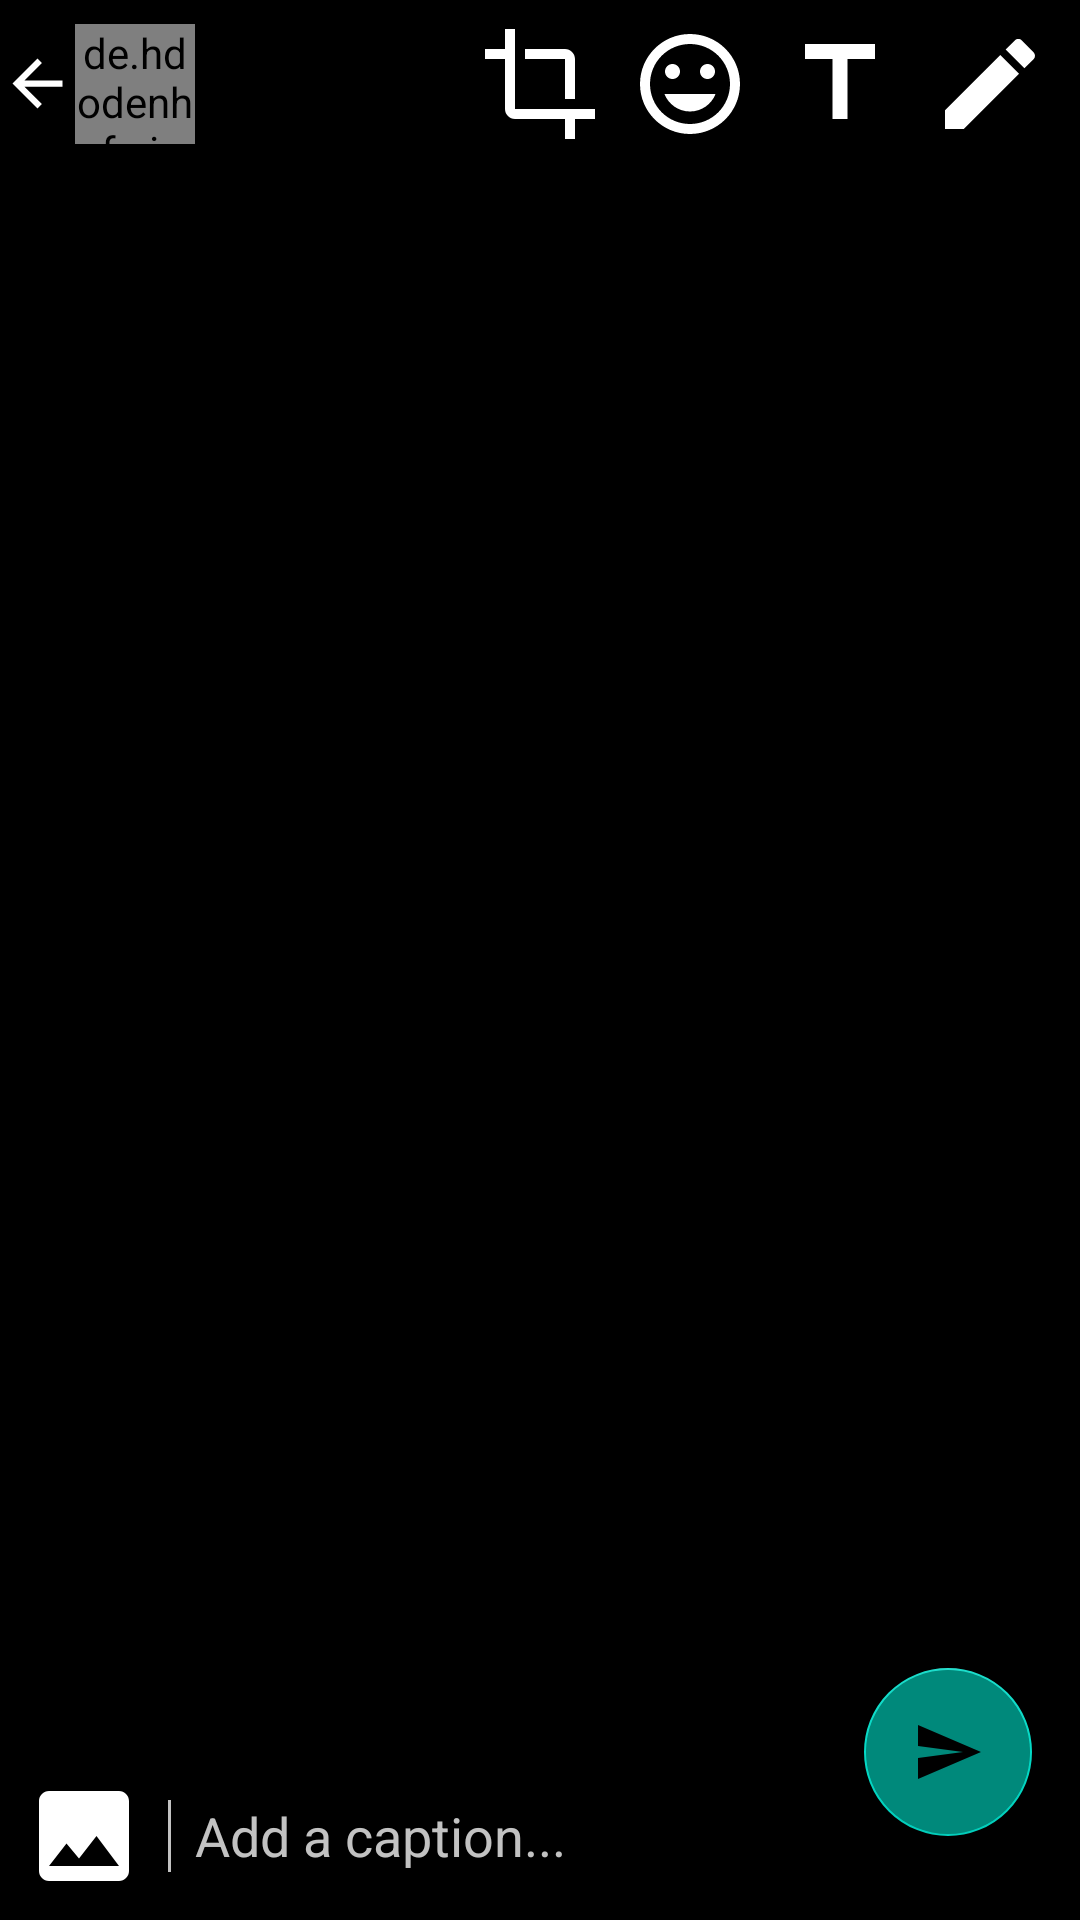

Locate icon controls on the screen. Image size 1080 × 1920, boxes as rect(x1, y1, x2, y2).
arrow back: rect(12, 58, 63, 109)
create: rect(945, 39, 1035, 129)
crop: rect(485, 29, 595, 139)
insert emoticon: rect(640, 34, 740, 134)
send: rect(864, 1668, 1032, 1836)
title: rect(805, 44, 875, 119)
